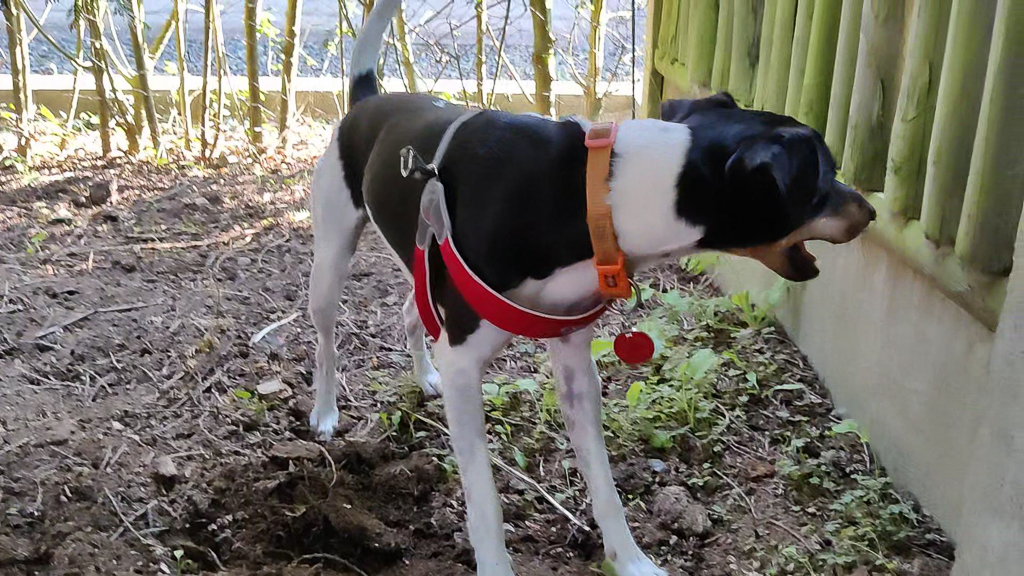Dog: (288, 0, 891, 576)
